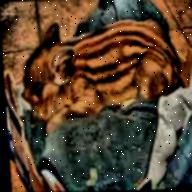boar: (5, 23, 192, 142)
